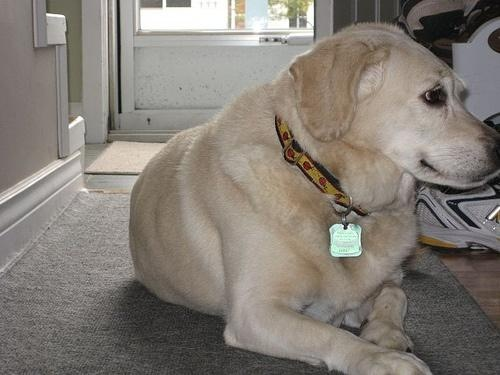dog: (128, 23, 500, 375)
